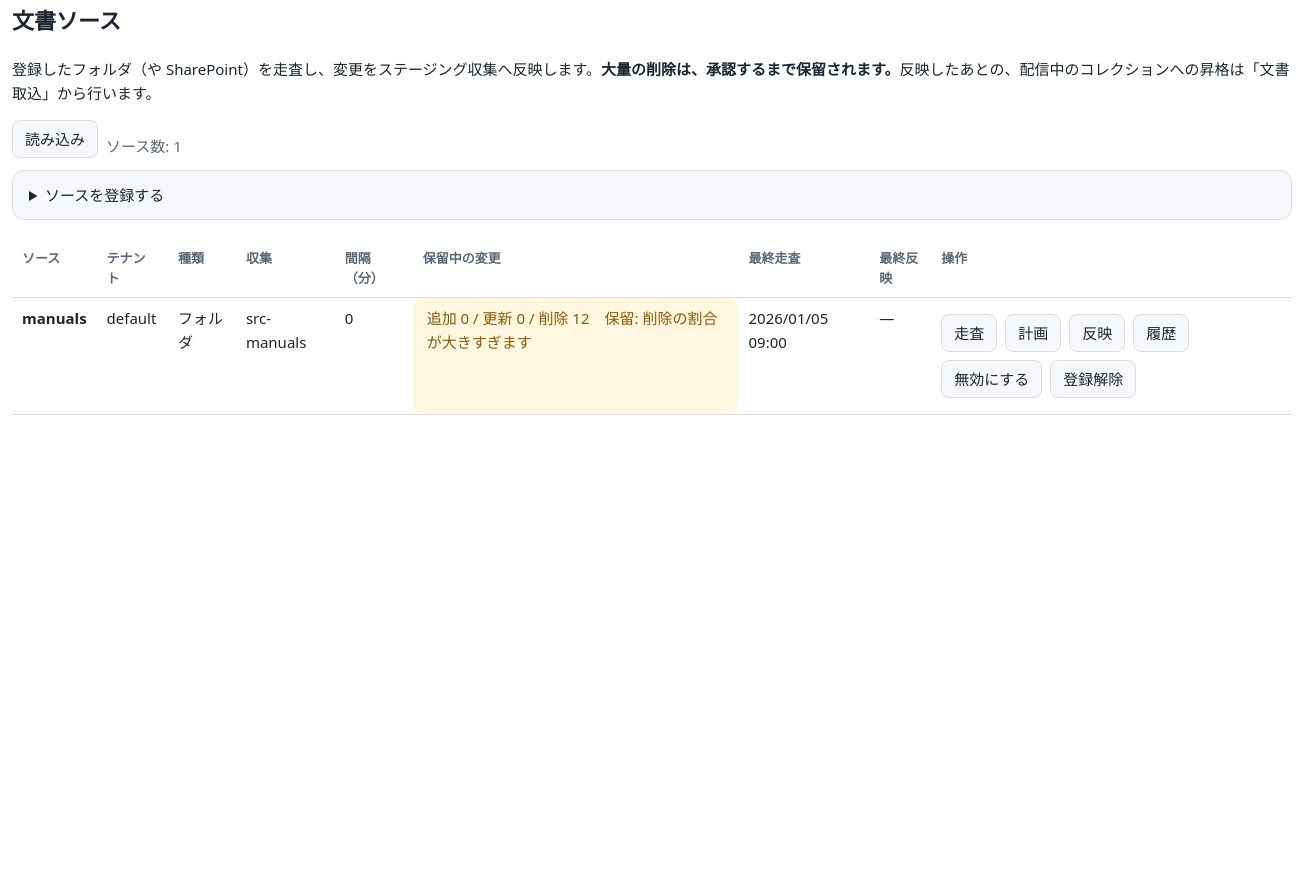
Test: the sources page: scan, plan, history › shows the plan with its fingerprint, the held warning and the excluded files
Click the button with aria-label "計画: manuals".
click(1033, 333)  # box [1005,314,1061,352]
(page scrolled)
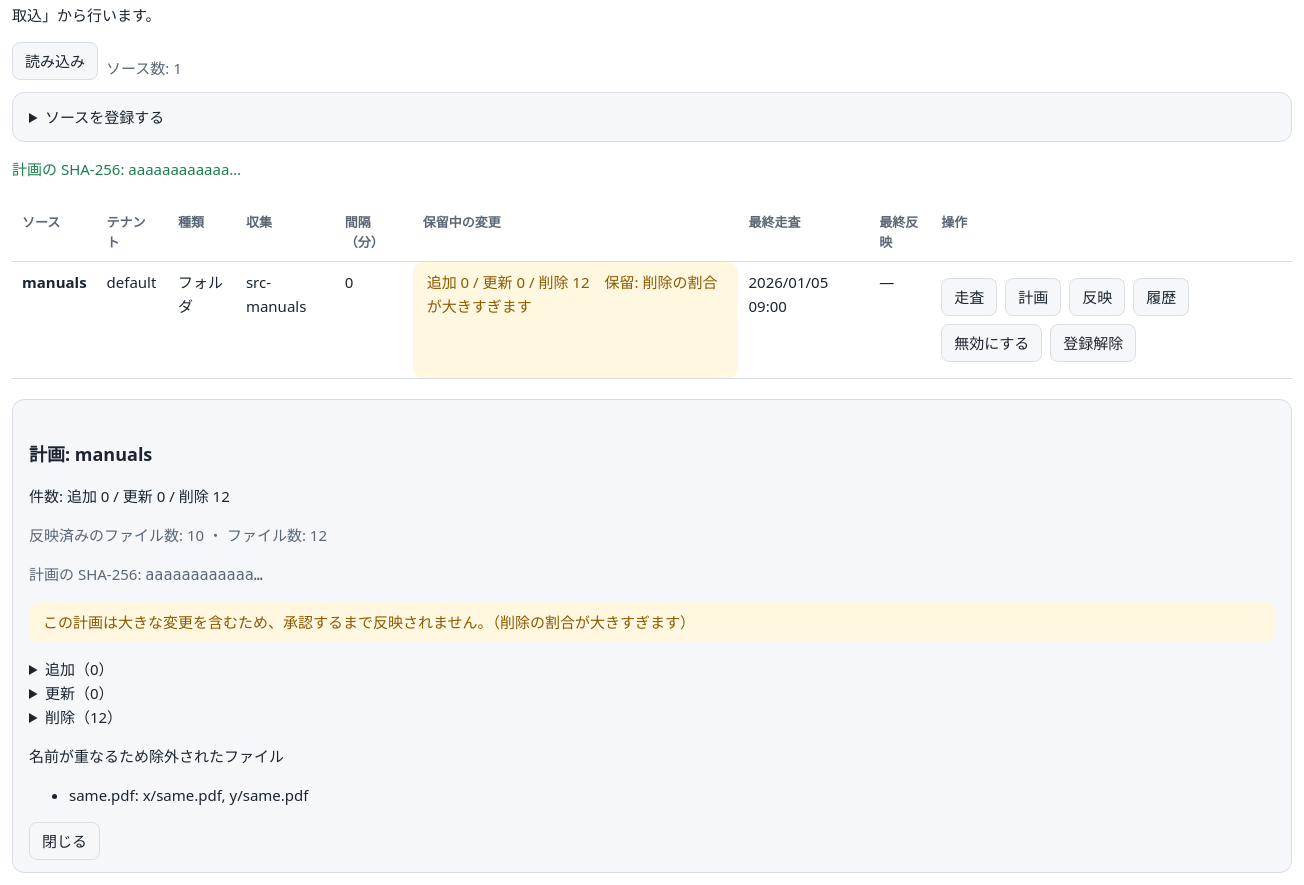
Expected: the text "この計画は大きな変更を含むため、承認するまで反映されません。（削除の割合が大きすぎます）" is shown, [29,602,1275,642]
Expected: the element "計画: manuals" shows "削除（12）", [12,399,1292,873]
